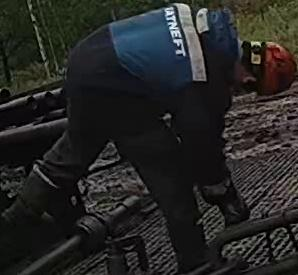gloves: (200, 176, 251, 227)
helmet: (259, 41, 296, 98)
vest: (65, 5, 242, 106)
